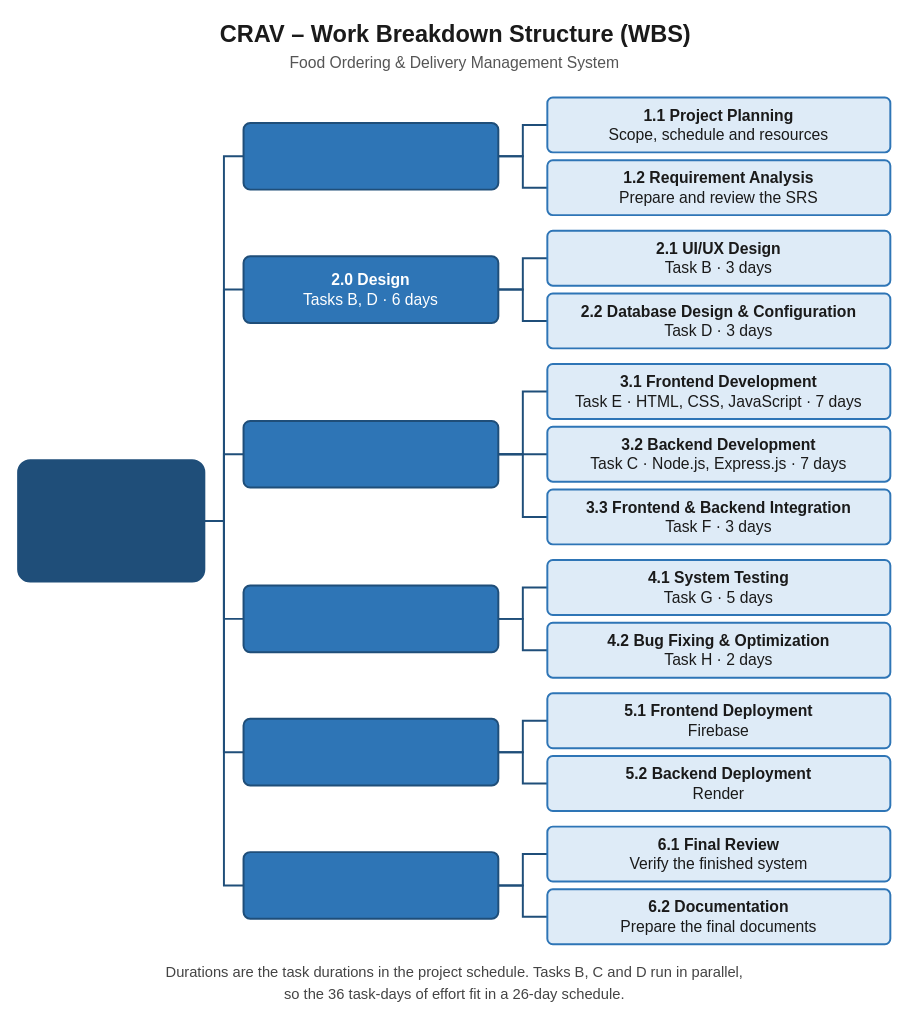
Some shapes in this 907 by 1020 pixel diagram are drawn without their labels. The shapes that lost their labels are listed below. From the top down, each one's box as (x1, y1, x2, y2) in pixels, then its label:
(242, 122, 499, 190): 1.0 Planning & Requirements Task A · 2 days
(242, 419, 499, 488): 3.0 Development Tasks C, E, F · 17 days
(17, 459, 205, 582): CRAV Food Ordering & Delivery Management System
(242, 584, 499, 653): 4.0 Testing & Optimization Tasks G, H · 7 days
(242, 717, 499, 786): 5.0 Deployment Task I · 2 days
(242, 851, 499, 919): 6.0 Review & Documentation Task J · 2 days
